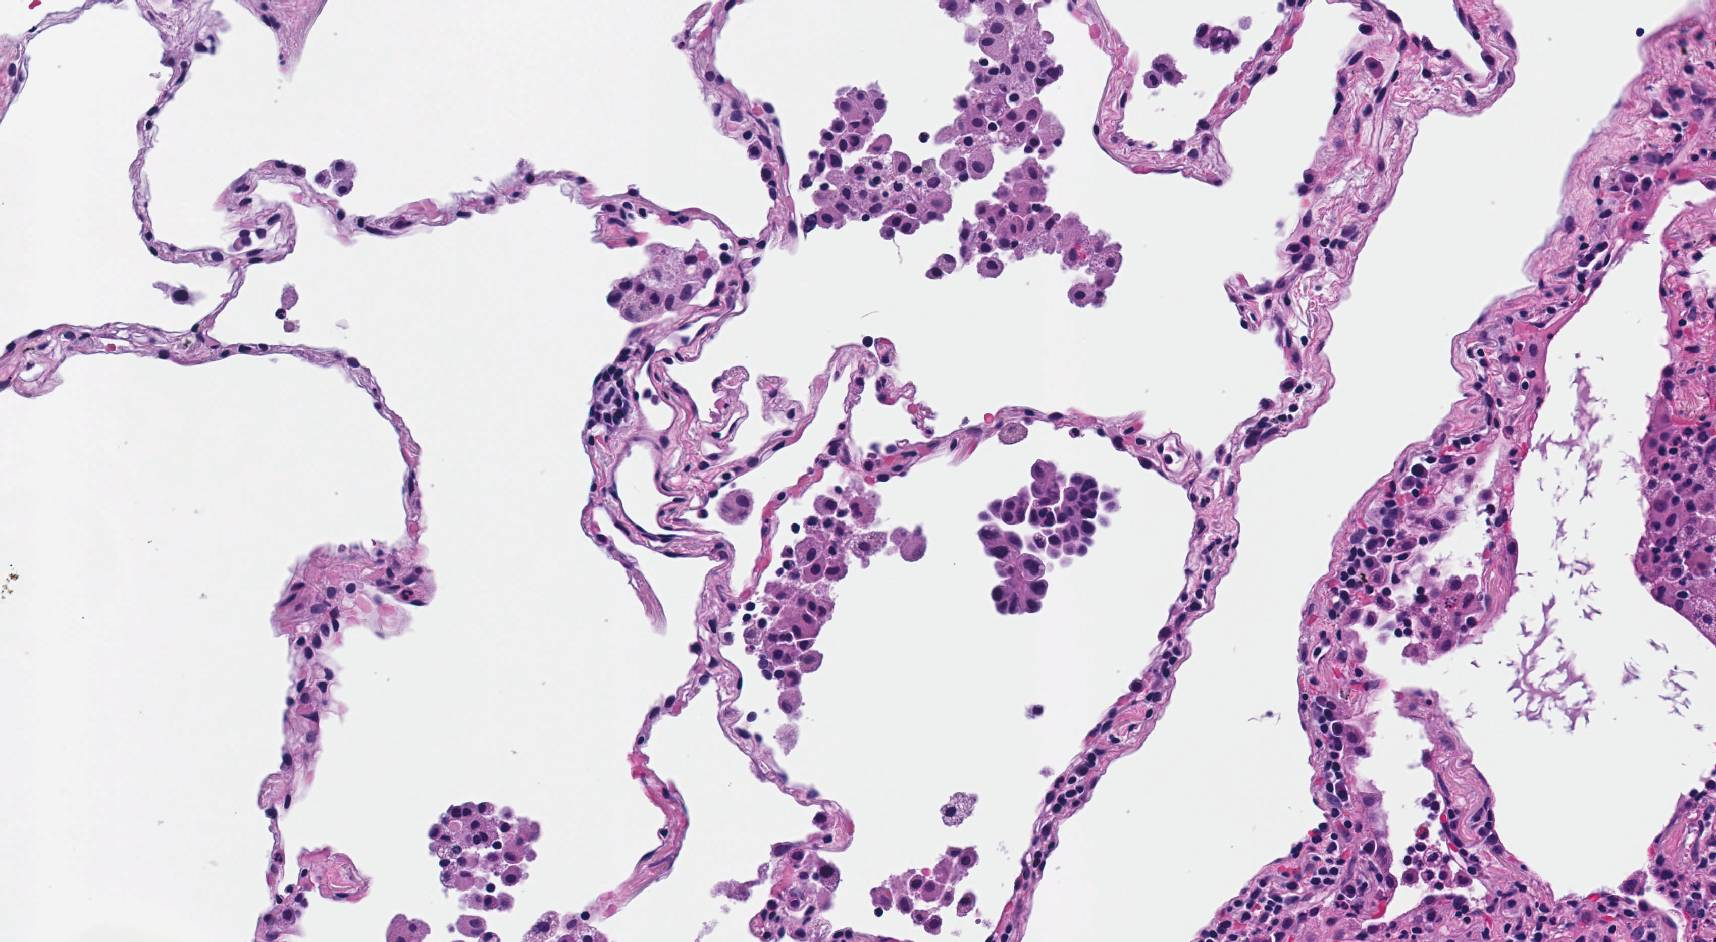stas: (976, 457, 1121, 616)
